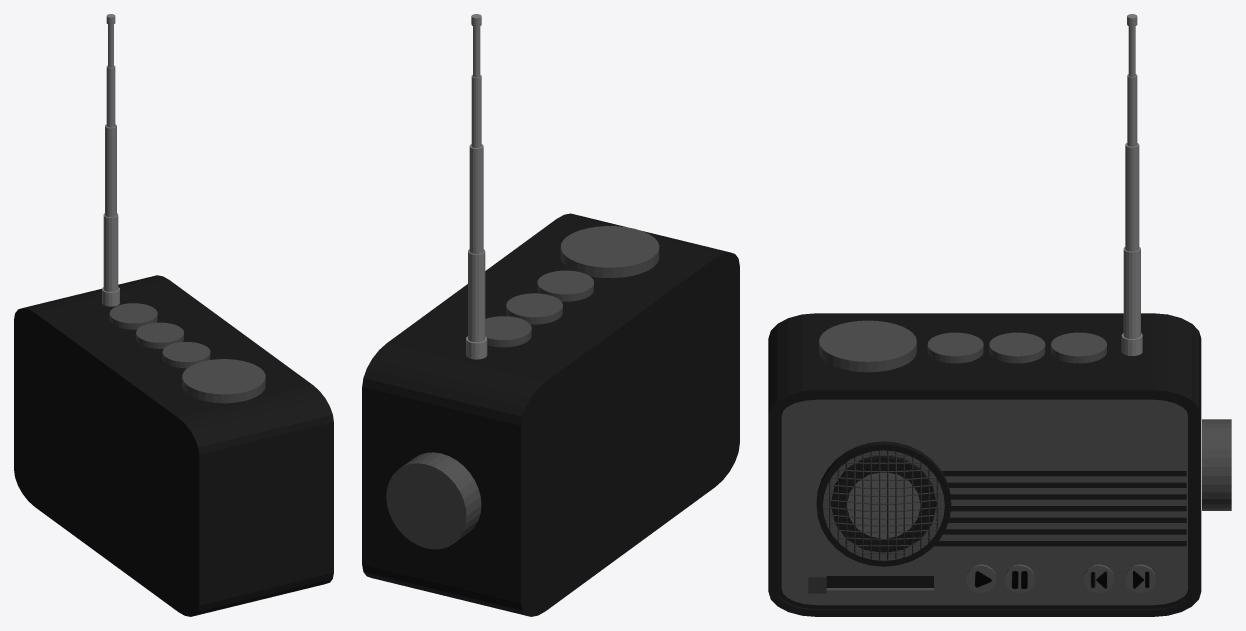
Rendered from radio.fbx.
The picture shows the model from 3 angles, left to right: view 1: azimuth 30°, elevation 25°; view 2: azimuth 150°, elevation 25°; view 3: azimuth 270°, elevation 25°; orthographic projection. The views are drawn at different scales.
Visible parts, largest first — view 1: Cube; view 2: Cube; view 3: Cube, NextTrackButton, PreviousTrackButton, PlayButton, PlayButton.001.
Part boxes in pixels (left/top/right/bottom): Cube: left=14, top=14, right=333, bottom=616; Cube: left=362, top=14, right=739, bottom=616; Cube: left=768, top=14, right=1231, bottom=616; NextTrackButton: left=1125, top=564, right=1155, bottom=593; PreviousTrackButton: left=1083, top=564, right=1114, bottom=593; PlayButton: left=966, top=564, right=996, bottom=593; PlayButton.001: left=1004, top=564, right=1034, bottom=593.
Bounding box in the file's own units: 187 × 593 × 443.
